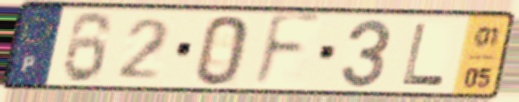0: (192, 13, 252, 88)
2: (114, 16, 173, 82)
3: (338, 17, 393, 90)
6: (60, 9, 114, 86)
F: (248, 11, 324, 92)
L: (399, 21, 448, 88)
